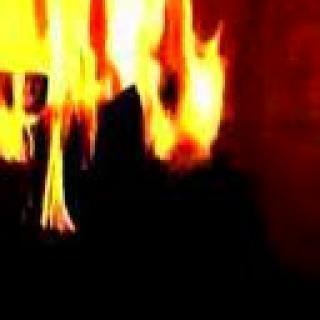fire: (0, 0, 207, 151)
